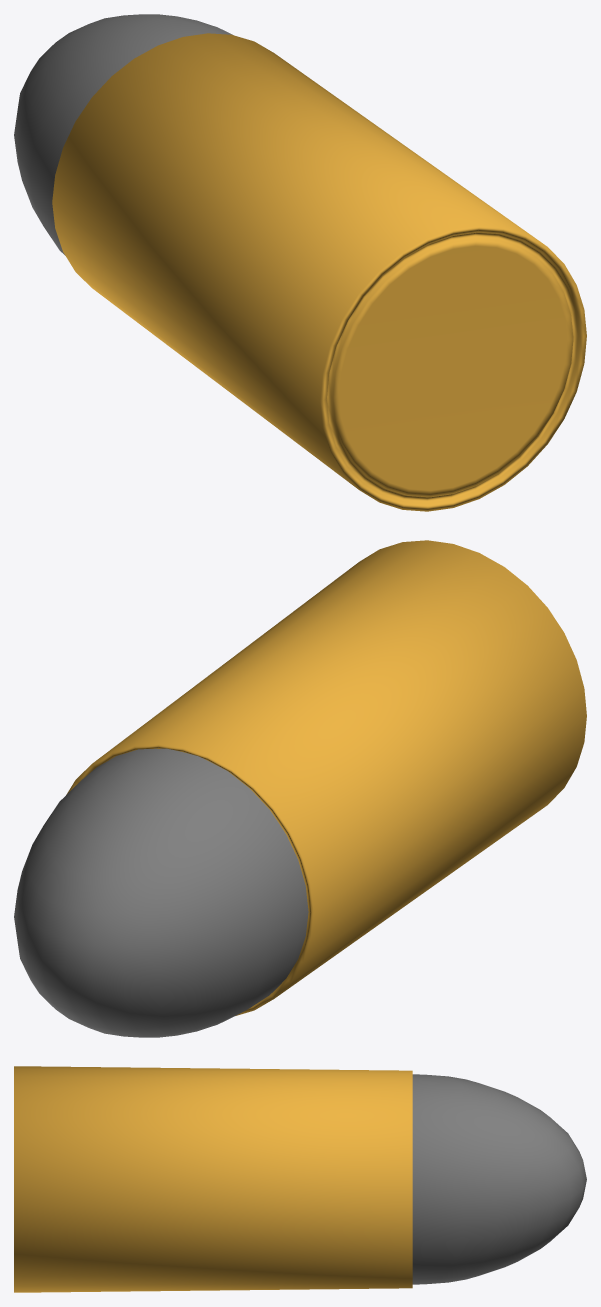
The model's file is Bala.fbx.
The picture shows the model from 3 angles, top to bottom: view 1: azimuth 30°, elevation 25°; view 2: azimuth 150°, elevation 25°; view 3: azimuth 270°, elevation 25°; orthographic projection. The views are drawn at different scales.
Visible parts, largest first — view 1: Cylinder; view 2: Cylinder; view 3: Cylinder.
Part boxes in pixels (x1,y1,x2,y2): Cylinder: (14,14,586,511); Cylinder: (14,540,586,1037); Cylinder: (14,1066,586,1292).
Bounding box in the file's own units: 452 × 451 × 1140.
